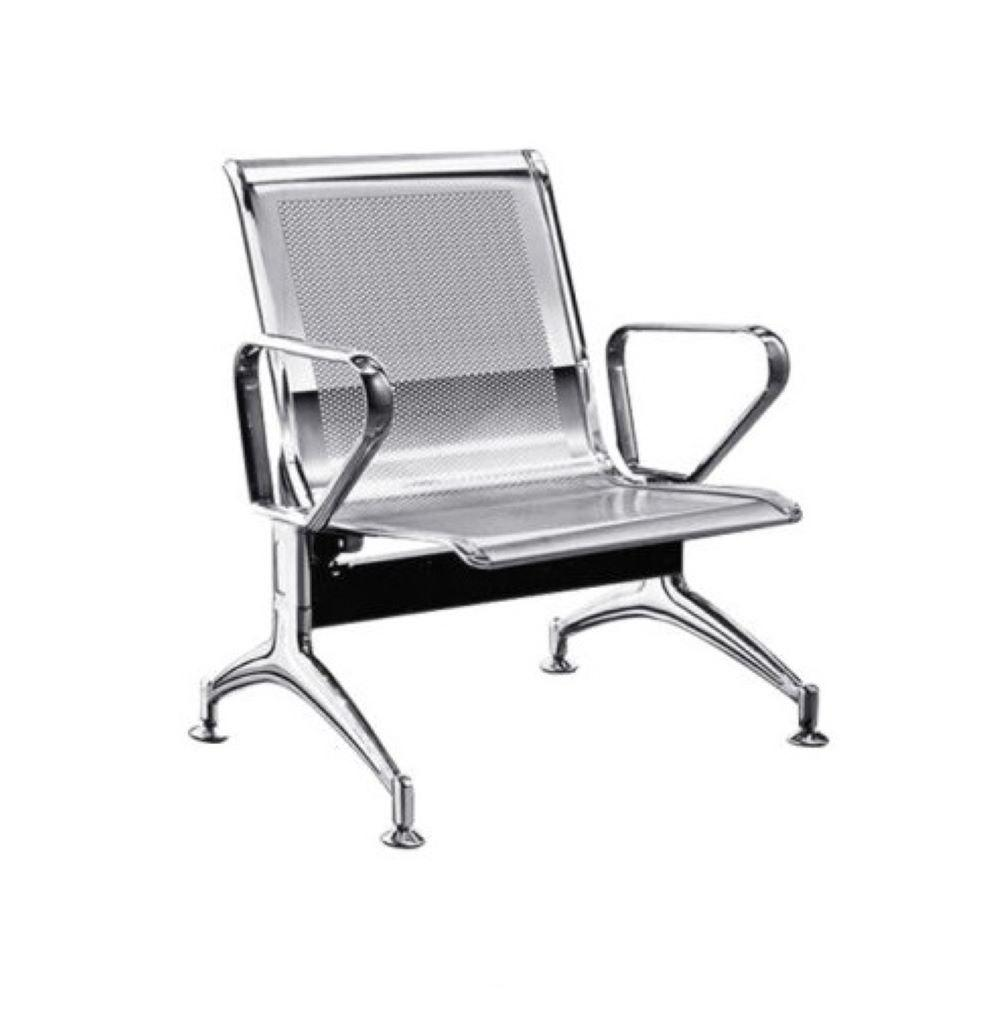chair: (181, 111, 843, 862)
